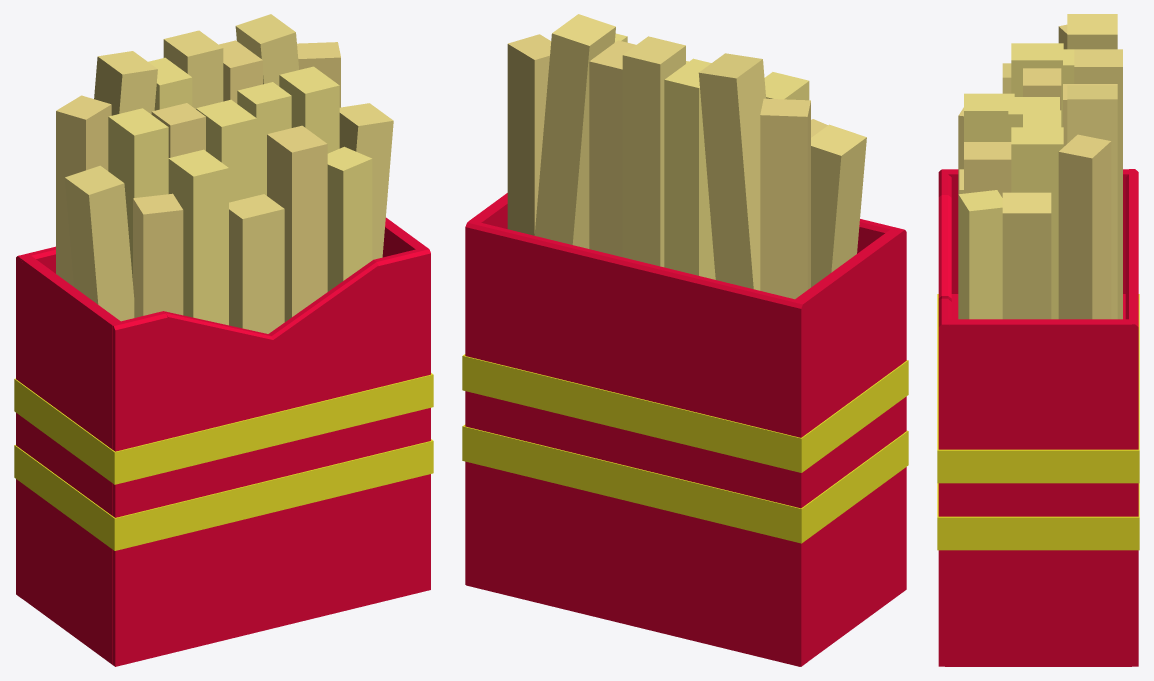
File: Fries.glb
3 views of the same model, side by side, from view 1: azimuth 30°, elevation 25°; view 2: azimuth 150°, elevation 25°; view 3: azimuth 270°, elevation 25° (orthographic). The views are drawn at different scales.
Parts seen in each view (by area): view 1: Fries; view 2: Fries; view 3: Fries.
Part boxes in pixels (x1,y1,x2,y2): Fries: (14, 14, 433, 666); Fries: (462, 14, 908, 666); Fries: (937, 14, 1139, 666).
Size of the model in its own units: 0.5641 by 0.8937 by 0.3078.
